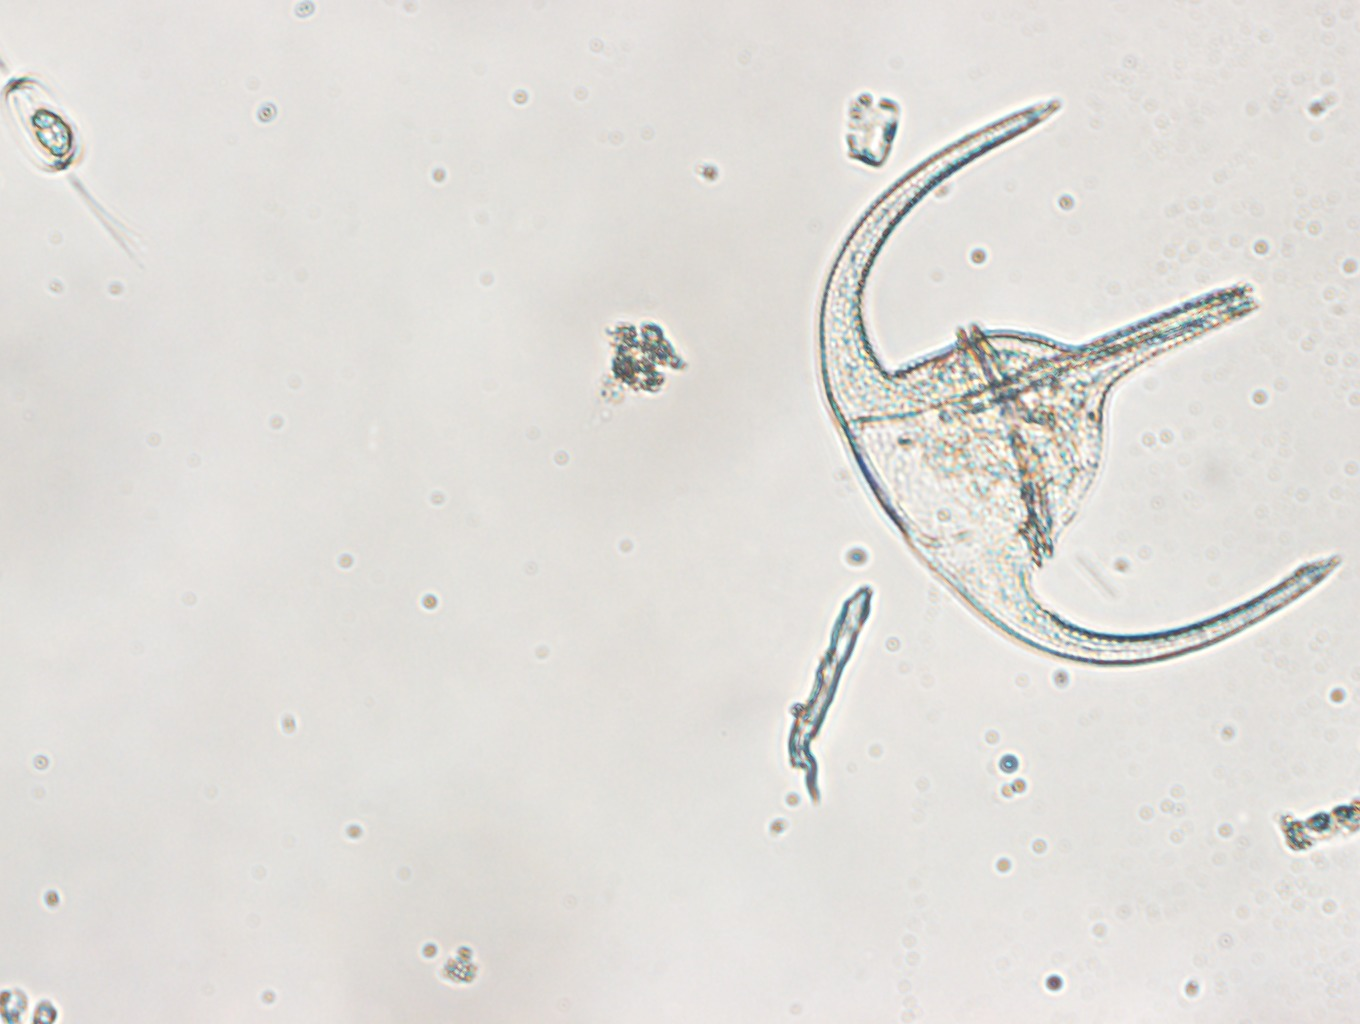ceratium tripos: (812, 79, 1346, 672)
